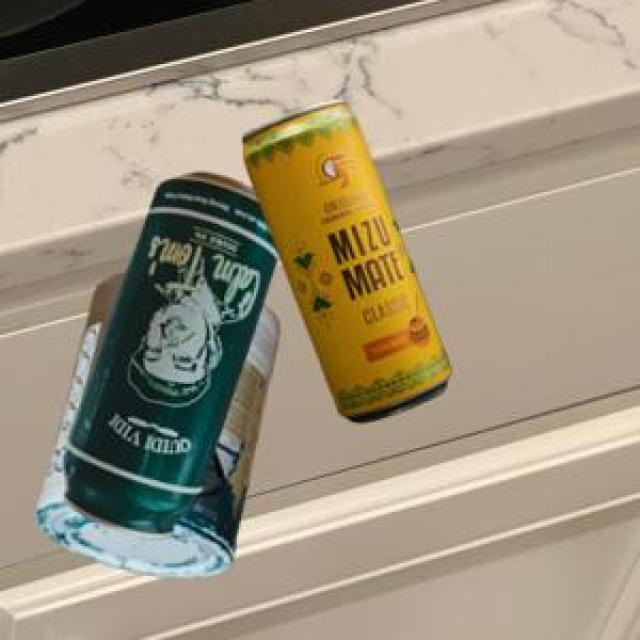logam: (61, 170, 276, 534), (33, 268, 276, 575), (240, 95, 447, 419)
